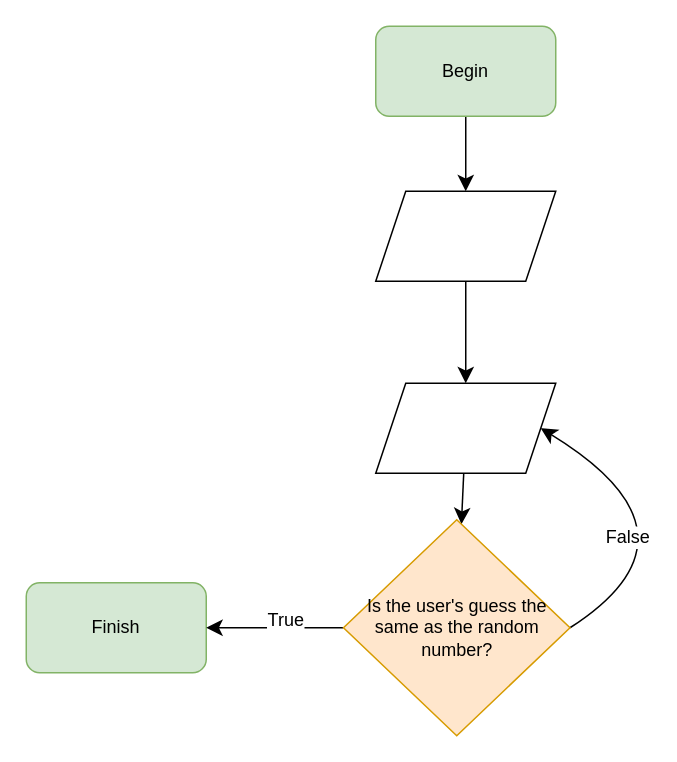
The diagram is 677 pixels wide and 762 high, and some of its shapes have lost their labels. Here are the shapes that lost their labels. From the top down, the centre of each, then its label:
point (465, 235): Generate a random number
point (465, 427): Ask the user for a number guess
